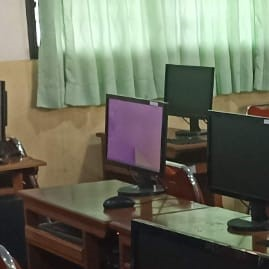monitor: (207, 111, 269, 232), (102, 93, 168, 192), (163, 63, 214, 118)
